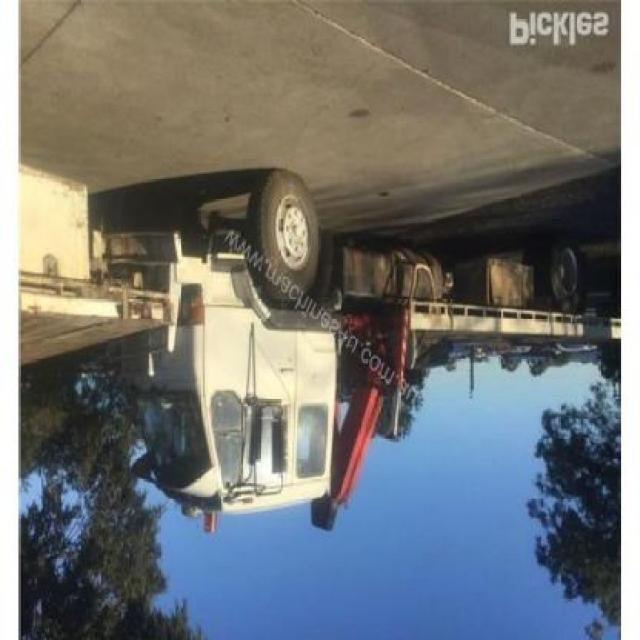truck: (101, 163, 619, 537)
